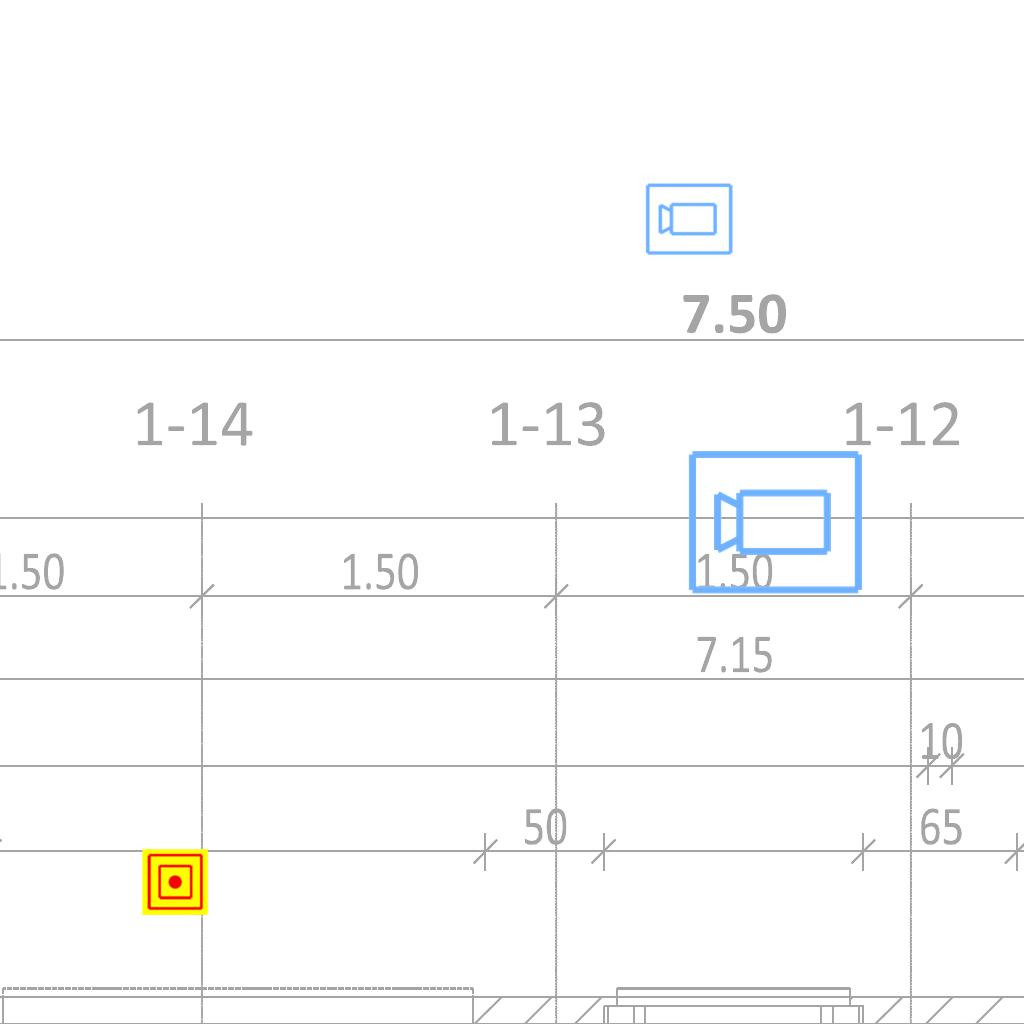KFO_Kamera_mit_Festobjektiv: (685, 444, 867, 598), (644, 180, 735, 257)
NAM-Nichtautomatischer_Melder: (142, 849, 208, 915)
